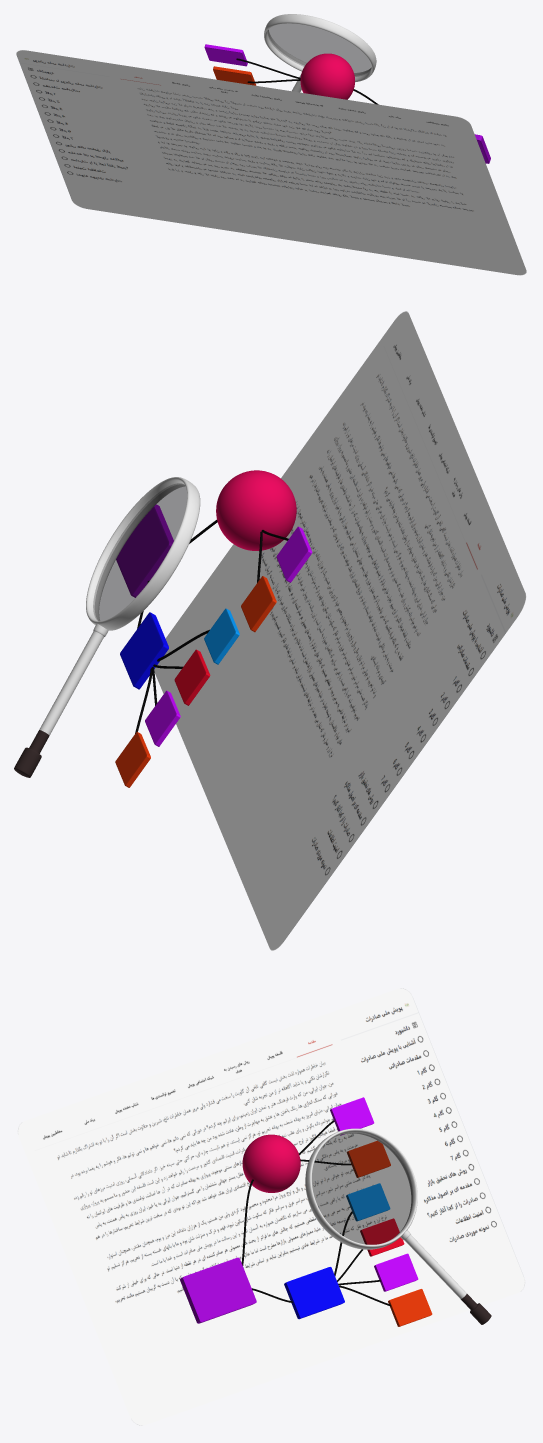
The model's file is Service1.glb.
3 views of the same model, one above another, from view 1: azimuth 30°, elevation 25°; view 2: azimuth 150°, elevation 25°; view 3: azimuth 270°, elevation 25° (orthographic). The views are drawn at different scales.
Visible parts, largest first — view 1: 0fe7b9f0-7982-4a6d-91cf-1f53dc1c7d99, Sphere_Material.001_0, Sphere, Cylinder, Cube.006, Cube.007, CurlyCurve.002; view 2: 0fe7b9f0-7982-4a6d-91cf-1f53dc1c7d99, Sphere_Material.001_0, Cylinder, Sphere, Cube, Cylinder.001, Cube.001, Cube.006, Cube.004, Cube.003, Cube.002, Cube.007 (+2 smaller); view 3: 0fe7b9f0-7982-4a6d-91cf-1f53dc1c7d99, Sphere_Material.001_0, Cube, Sphere, Cylinder, Cube.001, Cylinder.001, Cube.005, Cube.004, Cube.002, Cube.007, CurlyCurve.002 (+2 smaller).
Boxes of the visible parts, <box> form: 0fe7b9f0-7982-4a6d-91cf-1f53dc1c7d99: <box>16,50,526,275</box>; Sphere_Material.001_0: <box>268,23,371,76</box>; Sphere: <box>300,53,354,99</box>; Cylinder: <box>264,14,376,82</box>; Cube.006: <box>204,44,247,66</box>; Cube.007: <box>213,66,256,85</box>; CurlyCurve.002: <box>236,58,378,104</box>; 0fe7b9f0-7982-4a6d-91cf-1f53dc1c7d99: <box>154,311,525,950</box>; Sphere_Material.001_0: <box>93,483,186,620</box>; Cylinder: <box>86,477,200,630</box>; Sphere: <box>216,470,296,550</box>; Cube: <box>116,504,173,597</box>; Cylinder.001: <box>14,623,108,777</box>; Cube.001: <box>120,612,168,689</box>; Cube.006: <box>276,526,312,582</box>; Cube.004: <box>145,690,180,746</box>; Cube.003: <box>174,649,210,705</box>; Cube.002: <box>204,608,239,664</box>; Cube.007: <box>241,576,276,632</box>; 0fe7b9f0-7982-4a6d-91cf-1f53dc1c7d99: <box>18,988,524,1425</box>; Sphere_Material.001_0: <box>312,1133,412,1244</box>; Cube: <box>180,1257,256,1323</box>; Sphere: <box>242,1134,300,1192</box>; Cylinder: <box>305,1128,417,1249</box>; Cube.001: <box>284,1267,344,1319</box>; Cylinder.001: <box>400,1230,491,1324</box>; Cube.005: <box>388,1289,432,1326</box>; Cube.004: <box>374,1253,418,1291</box>; Cube.002: <box>346,1183,390,1221</box>; Cube.007: <box>347,1141,390,1177</box>; CurlyCurve.002: <box>241,1120,390,1306</box>.
Bounding box in the file's own units: 1.45 × 0.8192 × 1.57.
Materials: 15 (1 with a texture image).
